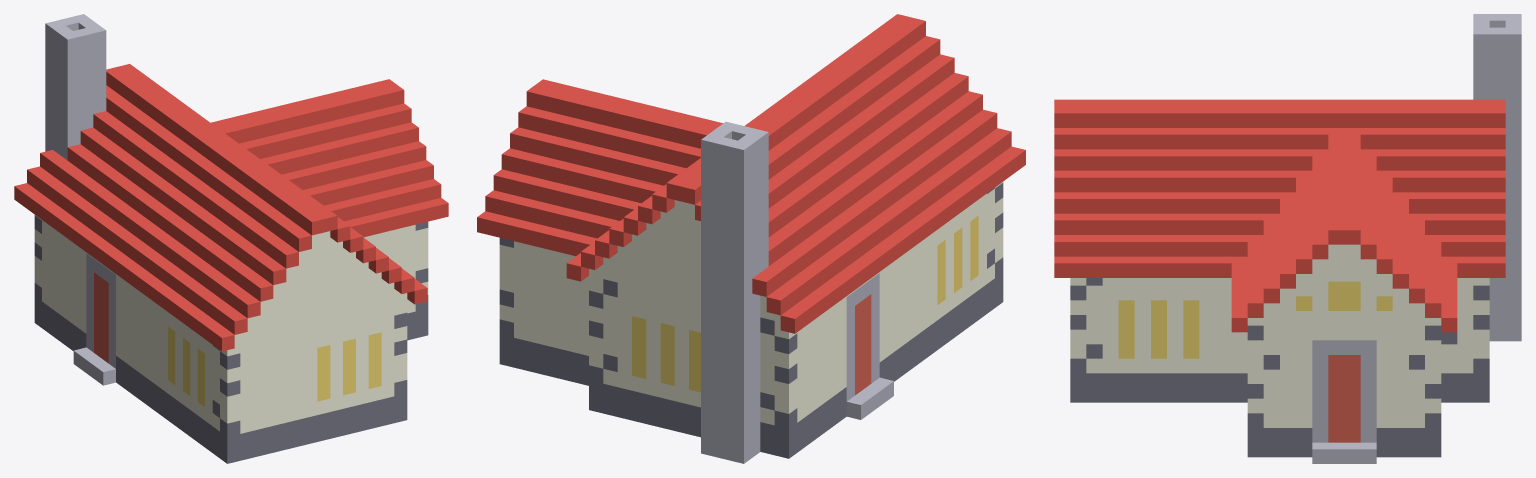
Rendered from Casa6.glb.
The picture shows the model from 3 angles, left to right: view 1: azimuth 30°, elevation 25°; view 2: azimuth 150°, elevation 25°; view 3: azimuth 270°, elevation 25°; orthographic projection. The views are drawn at different scales.
Visible parts, largest first — view 1: Build- 8; view 2: Build- 8; view 3: Build- 8.
Part boxes in pixels (<box>): Build- 8: <box>14,14,448,463</box>; Build- 8: <box>477,14,1025,463</box>; Build- 8: <box>1054,14,1521,463</box>.
Size of the model in its own units: 2.4 by 2.1 by 2.9.
Materials: 1 (1 with a texture image).
